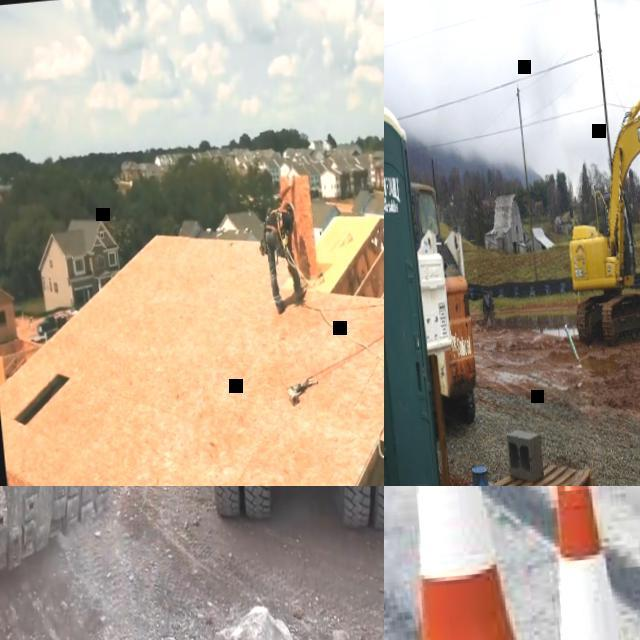helmet: (287, 202, 295, 221)
